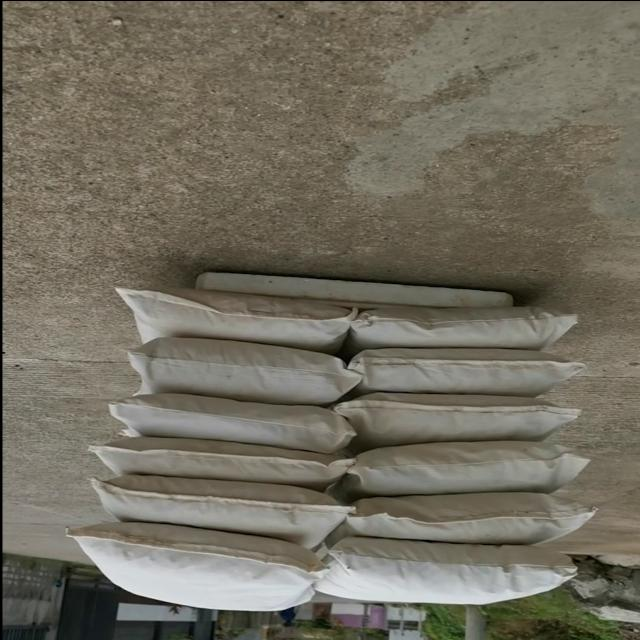Sack: (52, 515, 318, 617), (68, 470, 354, 553), (79, 383, 367, 461), (321, 532, 575, 612), (102, 277, 356, 353), (346, 432, 603, 504), (109, 337, 359, 409), (77, 433, 363, 493), (346, 292, 583, 360), (341, 489, 603, 547), (339, 387, 590, 447), (352, 344, 592, 405)
